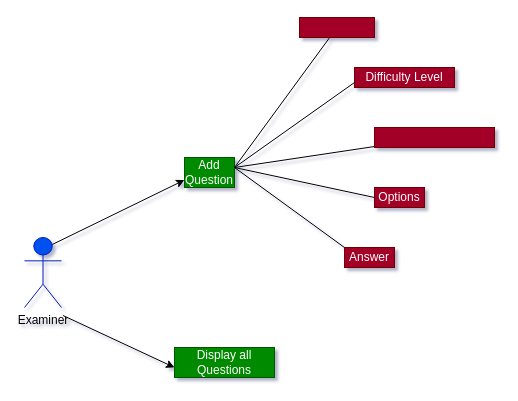
This 518x401 diagram has some shape labels left out. Here are the shapes that lost their labels. From the top down, the box of each, then its label:
(298, 16, 374, 38): Topic Name
(374, 126, 494, 148): Question Statement
(24, 236, 62, 308): Actor
